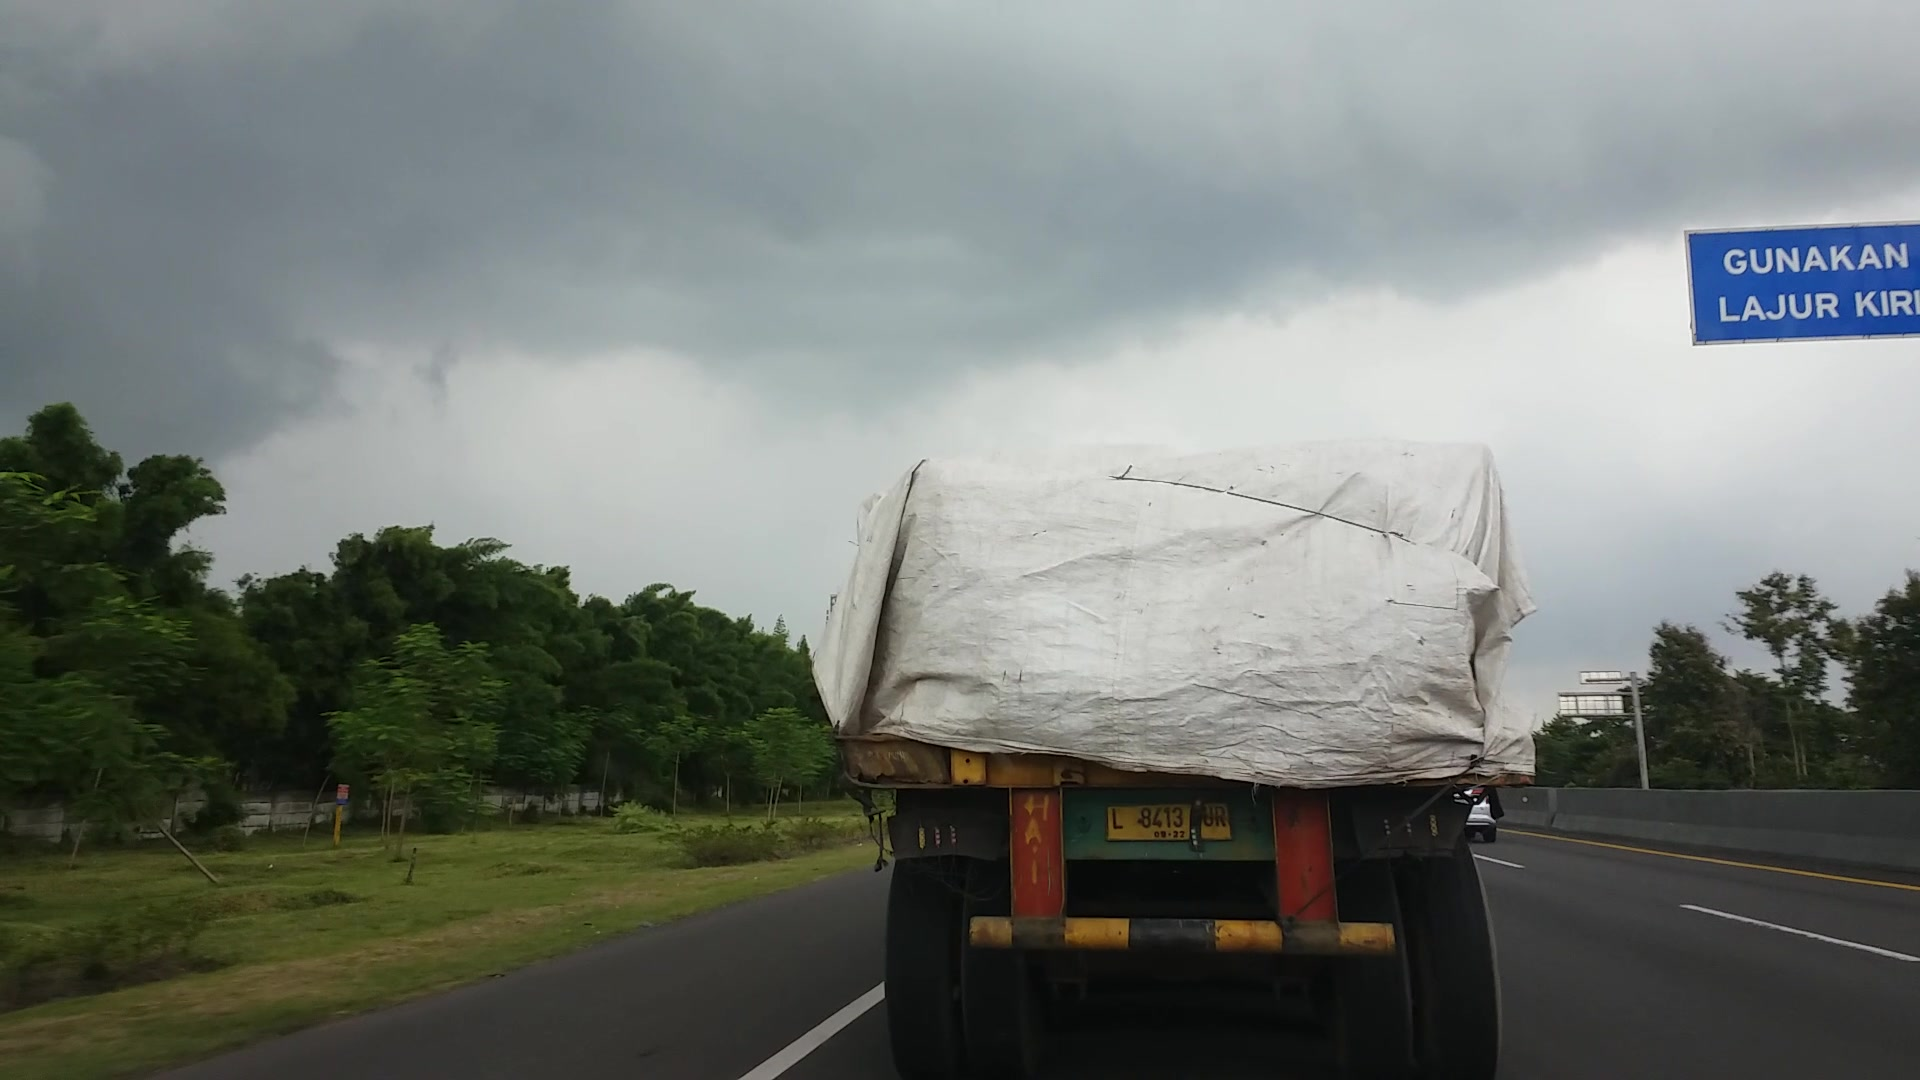plate_positive: (1106, 800, 1232, 840)
